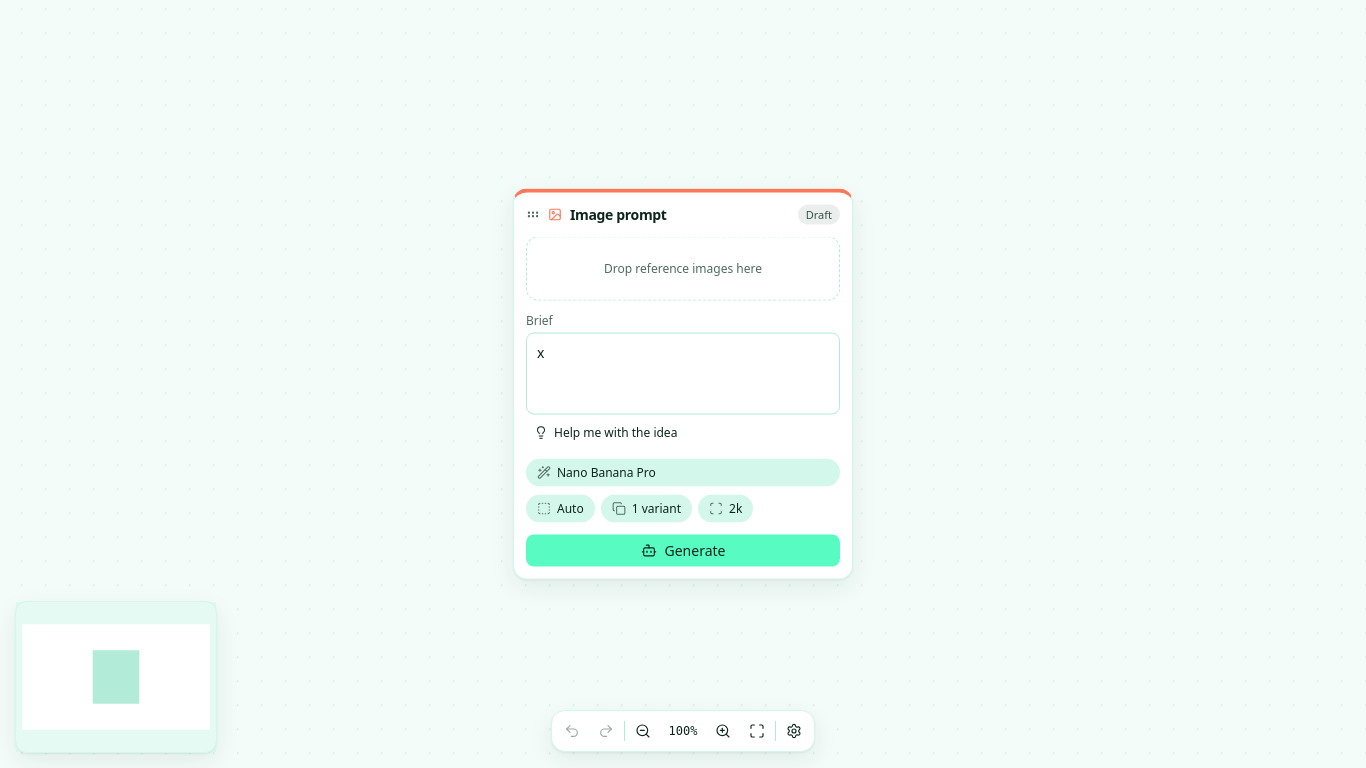
Test: Prompt cards › shows the instruction when the clipboard is blocked
Click the button with test id "prompt-generate": {"x": 683, "y": 550} [526,534,840,566]
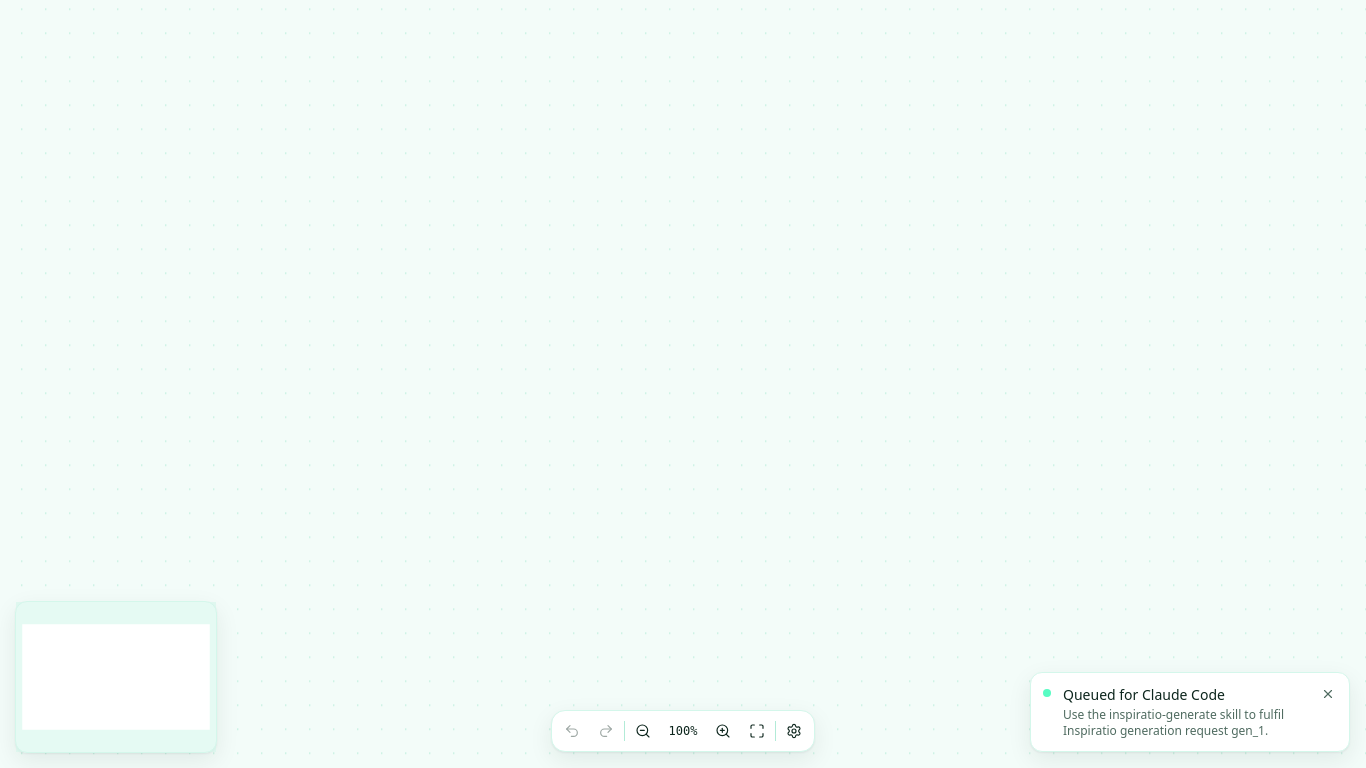
Result: the text "inspiratio-generate skill" is shown at [1063,706,1284,739]
